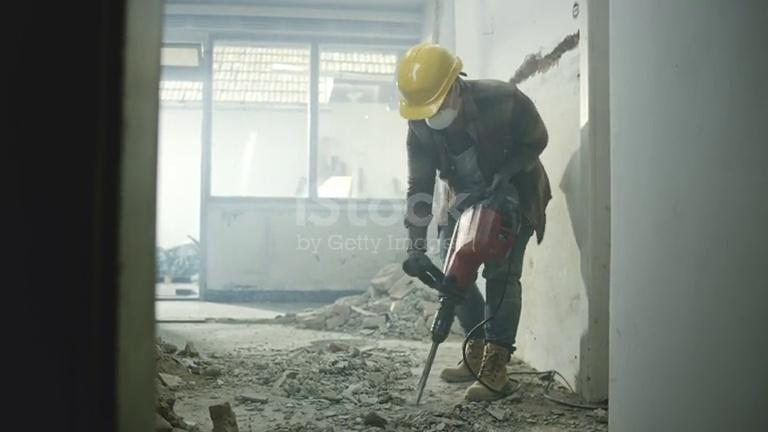helmet: (397, 43, 465, 120)
mask: (412, 93, 457, 129)
person: (395, 45, 552, 403)
